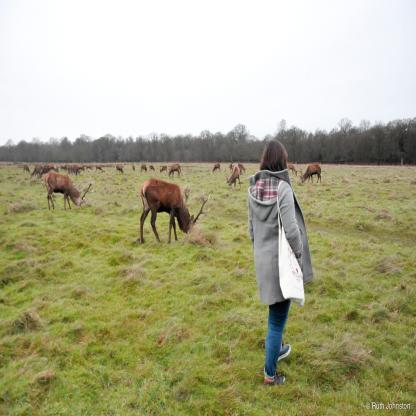Deer: (139, 176, 211, 246), (46, 169, 96, 211), (298, 162, 322, 186), (226, 166, 242, 190), (30, 163, 44, 179), (168, 162, 181, 178), (287, 162, 298, 176), (115, 162, 124, 176), (212, 162, 221, 174), (148, 164, 156, 172), (140, 164, 148, 172), (160, 165, 168, 173)
